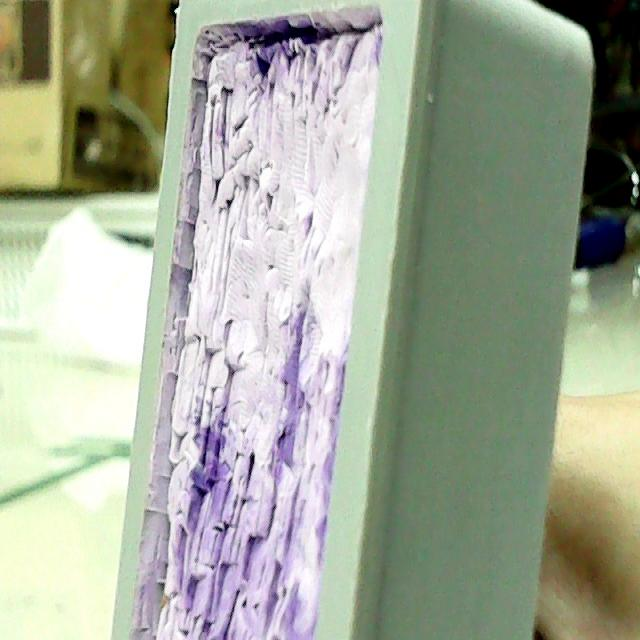block: (106, 0, 599, 638)
